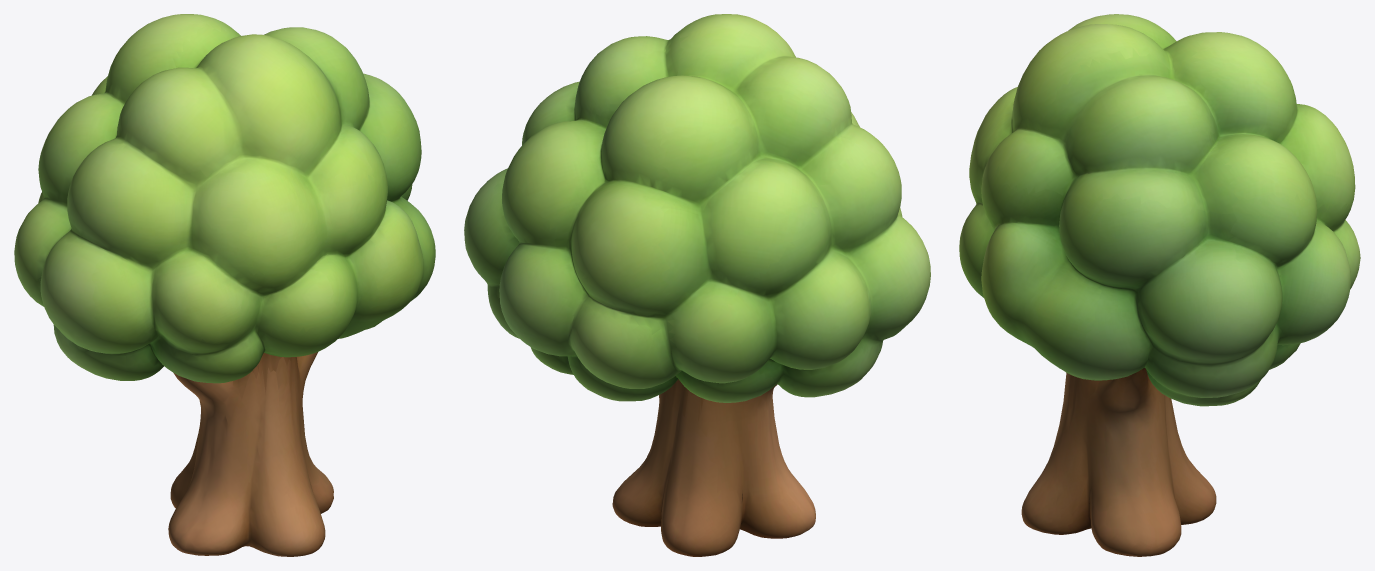
The model's file is 06_tree.glb.
3 views of the same model, side by side, from view 1: azimuth 30°, elevation 25°; view 2: azimuth 150°, elevation 25°; view 3: azimuth 270°, elevation 25° (orthographic).
Parts seen in each view (by area): view 1: node_0; view 2: node_0; view 3: node_0.
Boxes of the visible parts, x1=… form: node_0: x1=14, y1=14, x2=435, y2=556; node_0: x1=464, y1=14, x2=930, y2=556; node_0: x1=959, y1=14, x2=1360, y2=556.
Size of the model in its own units: 0.8499 by 1 by 0.7438.
Materials: 1 (1 with a texture image).
